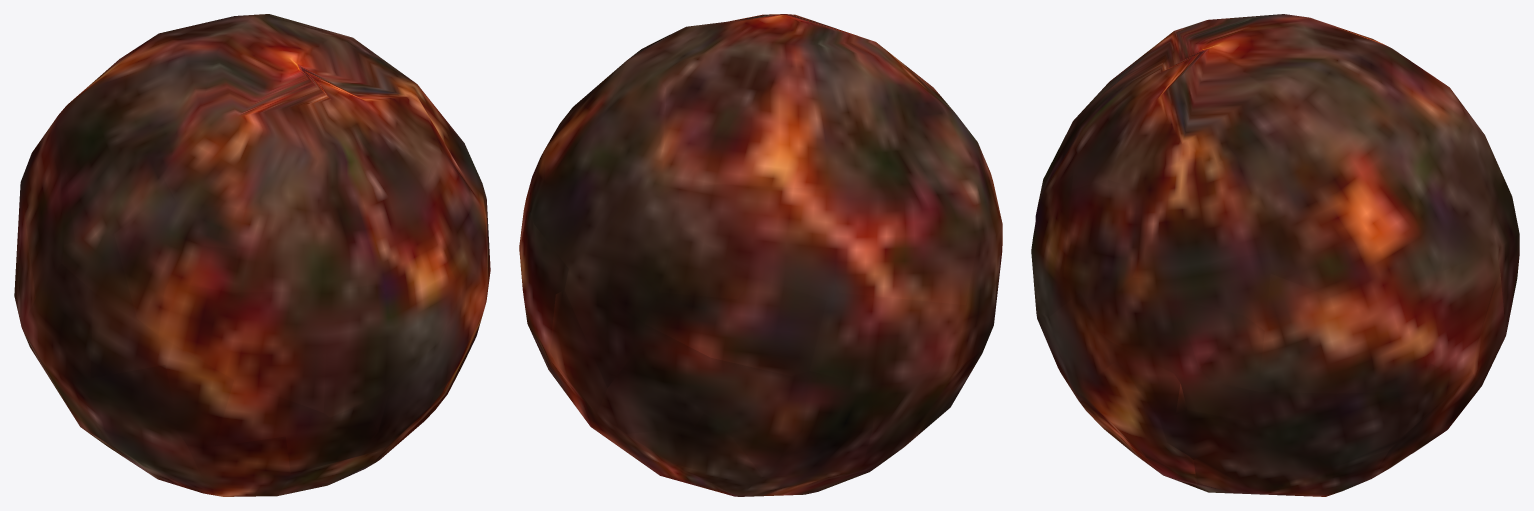
The model's file is planet_1-far.glb.
3 views of the same model, side by side, from view 1: azimuth 30°, elevation 25°; view 2: azimuth 150°, elevation 25°; view 3: azimuth 270°, elevation 25° (orthographic).
Visible parts, largest first — view 1: Mesh_0.001; view 2: Mesh_0.001; view 3: Mesh_0.001.
Boxes of the visible parts, <box> form: Mesh_0.001: <box>14,14,490,496</box>; Mesh_0.001: <box>519,14,1002,496</box>; Mesh_0.001: <box>1031,14,1519,496</box>.
Bounding box in the file's own units: 1.89 × 1.9 × 1.89.
1 material, 1 textured.
